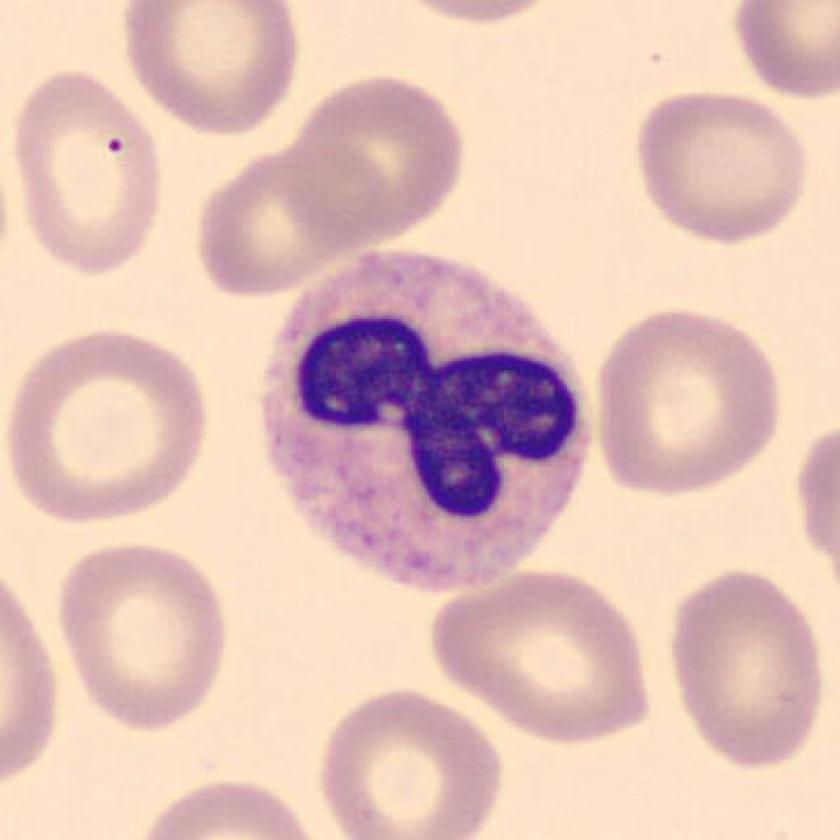neutrophil: (269, 252, 588, 589)
